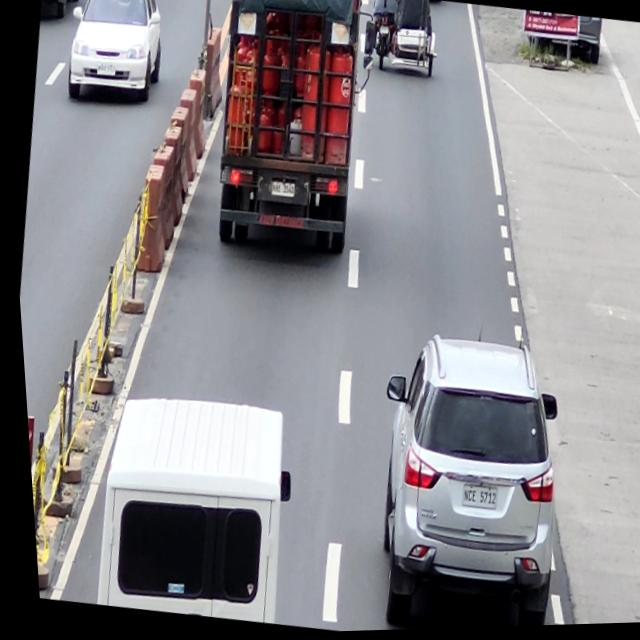Car: (345, 323, 578, 632), (75, 383, 306, 631)
License-Plate: (454, 487, 493, 516), (267, 182, 294, 200), (377, 27, 390, 37)
Tricycle: (362, 0, 444, 84)
Truck: (197, 0, 393, 260)
